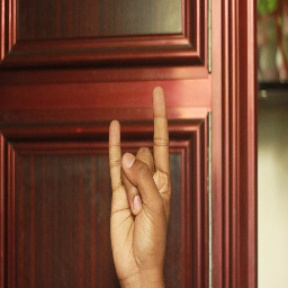V: (104, 83, 177, 274)
